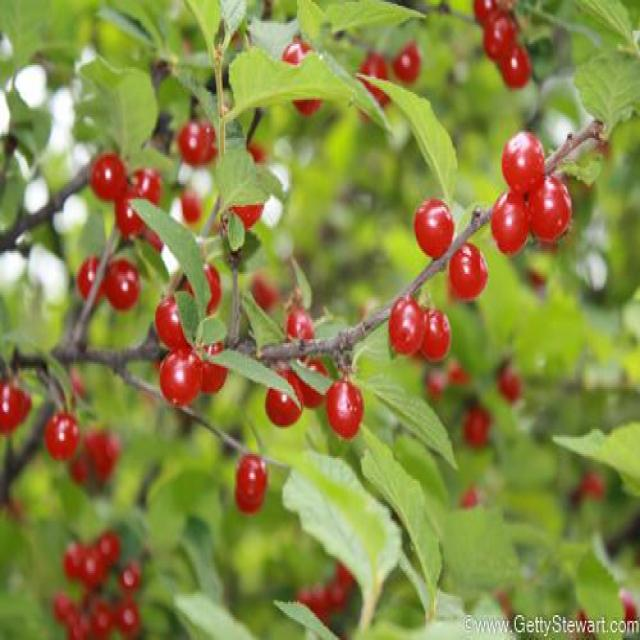other: (148, 252, 371, 452), (381, 184, 481, 383), (2, 373, 119, 493), (73, 139, 151, 306), (489, 128, 578, 264), (47, 525, 138, 622)
